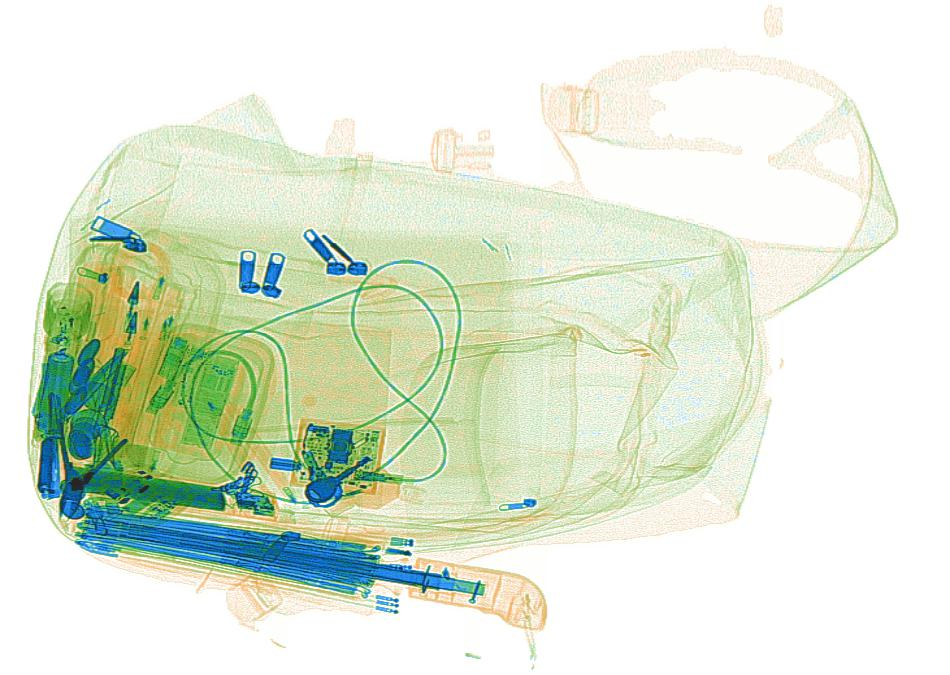USBFlashDisk: (157, 333, 190, 382)
battery: (34, 351, 73, 436)
